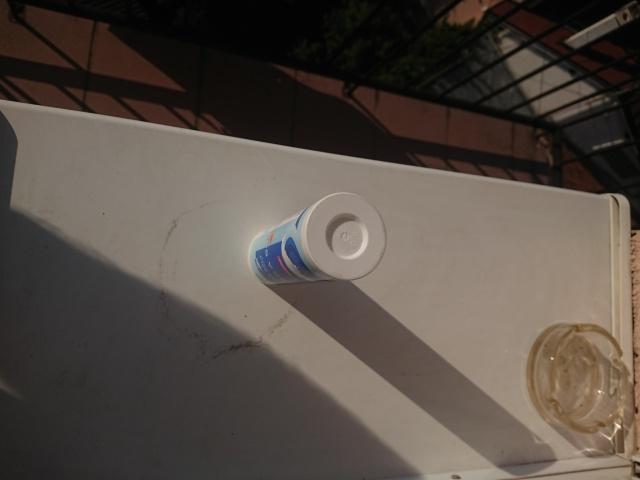Solana Pag Fine Sea Salt 250g: (245, 190, 389, 288)
